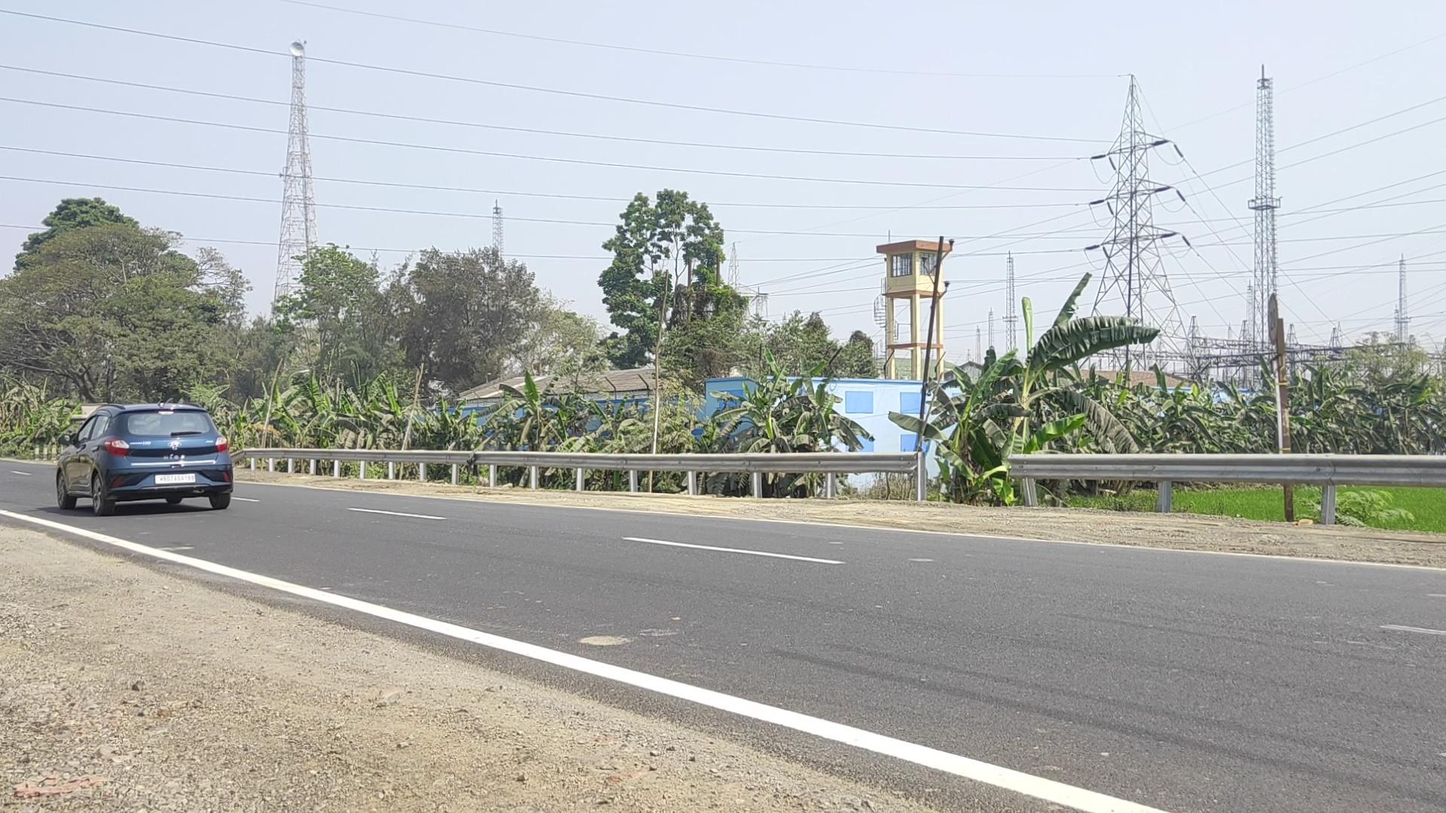car: (55, 400, 233, 516)
